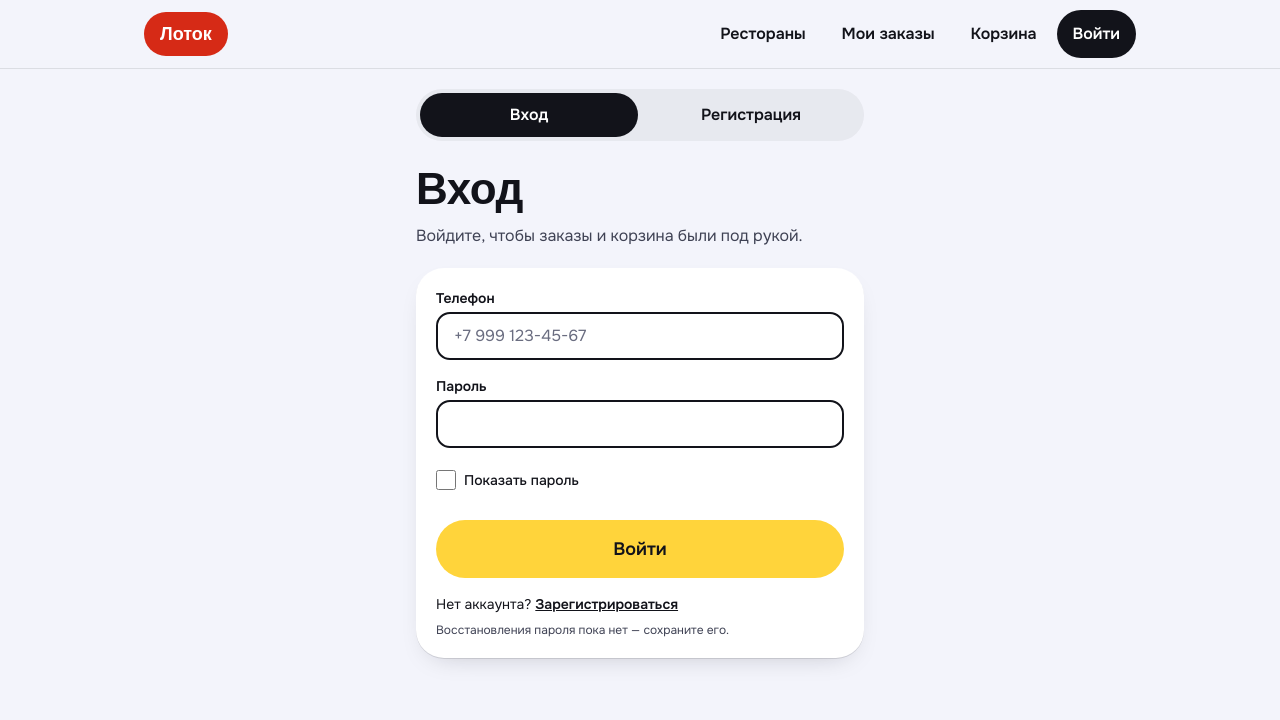
Scenario: сессия (UC-ACC) › неверный пароль → «Неверный телефон или пароль»
Type "+79990000001" into the field labelled "Телефон" at (640, 336), box 436,312 -> 844,360
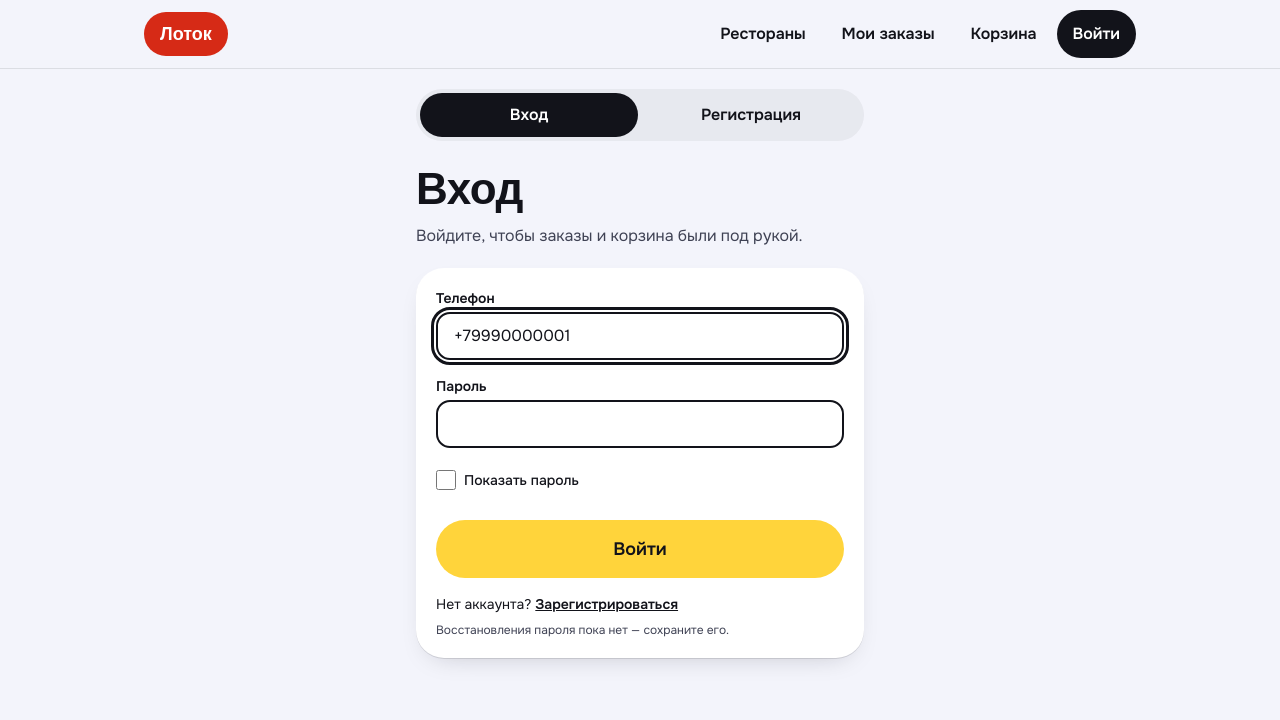
Type "wrongpass" into the password field labelled "Пароль" at (640, 424), box 436,400 -> 844,448
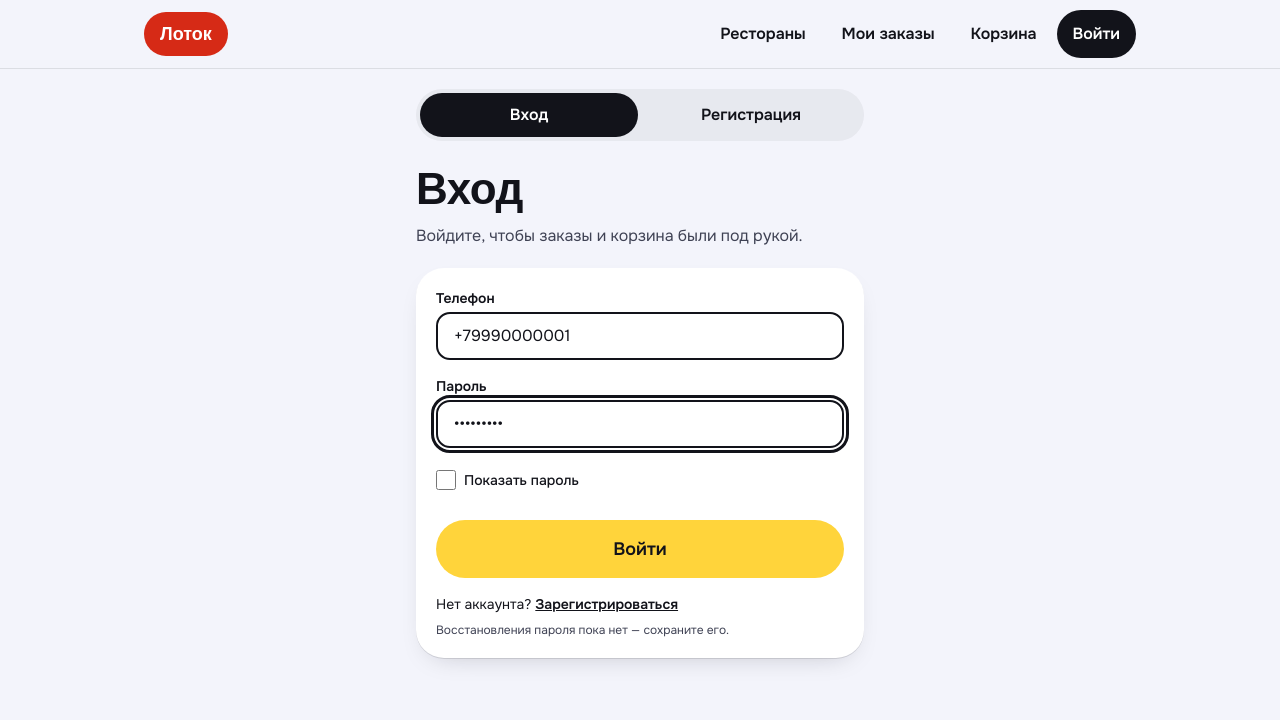
Click the button "Войти" at (640, 549), box 436,520 -> 844,578
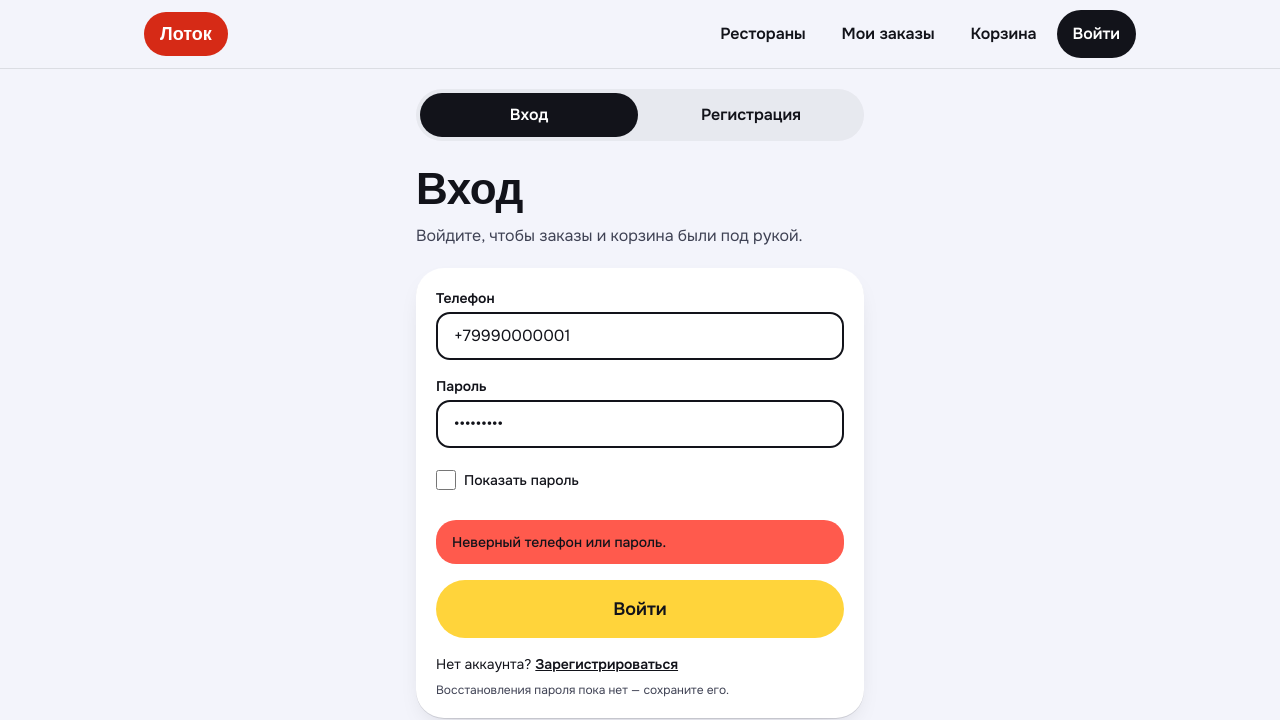
expect the text "Неверный телефон или пароль." is shown: met, box 436,520 -> 844,564
